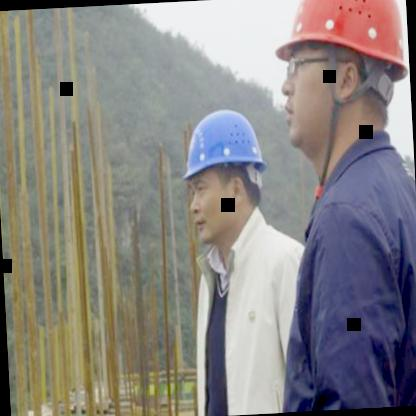helmet: (267, 0, 414, 176), (175, 90, 280, 266)
